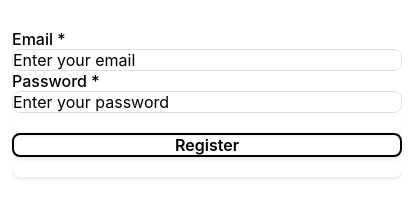
Test: LoginScreen › Form Validation › should show error when email is empty
Click the text "Login": (207, 123) x1=186 y1=113 x2=228 y2=133
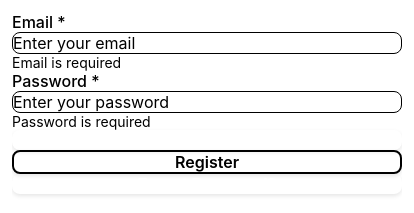
Result: the text "Email is required" is shown at x1=12 y1=54 x2=121 y2=71
